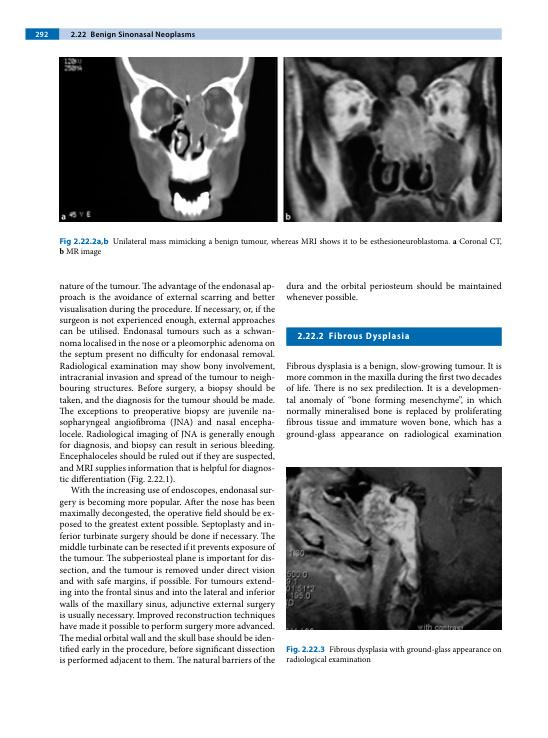caption: (58, 236, 503, 257), (285, 644, 502, 666), (285, 212, 292, 221), (60, 213, 67, 221)
header: (70, 30, 196, 40)
image: (283, 57, 503, 223), (58, 57, 278, 222), (285, 466, 503, 631)
section-heading: (327, 331, 411, 343)
text: (57, 280, 276, 667), (285, 361, 504, 441), (284, 280, 504, 304)
